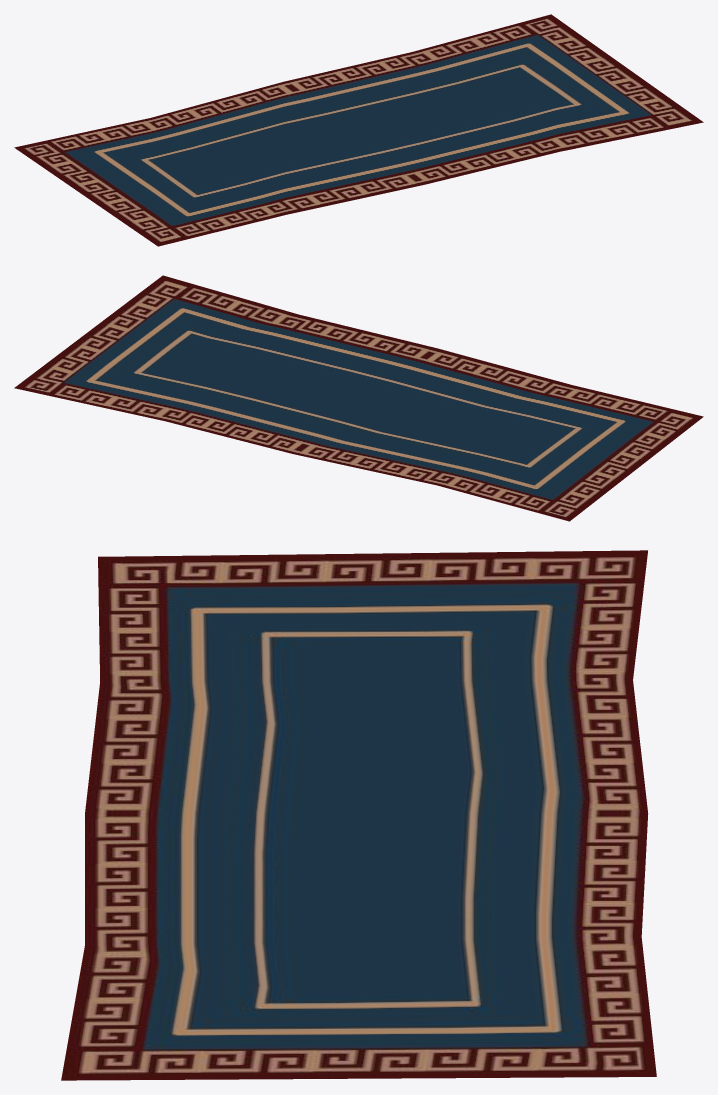
The model's file is SM_carpet_01.glb.
3 views of the same model, one above another, from view 1: azimuth 30°, elevation 25°; view 2: azimuth 150°, elevation 25°; view 3: azimuth 270°, elevation 25° (orthographic). The views are drawn at different scales.
Parts seen in each view (by area): view 1: SM_carpet_01; view 2: SM_carpet_01; view 3: SM_carpet_01.
Boxes of the visible parts, bbox=[...] form: SM_carpet_01: bbox=[14, 14, 703, 246]; SM_carpet_01: bbox=[14, 275, 703, 521]; SM_carpet_01: bbox=[61, 550, 656, 1080].
Size of the model in its own units: 10.1 by 7.82e-07 by 4.8.
Materials: 1 (1 with a texture image).
